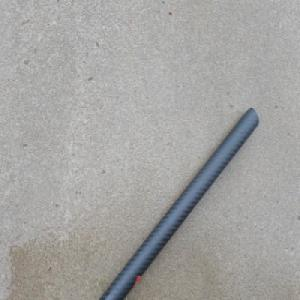LuggagePart: (98, 104, 258, 300)
